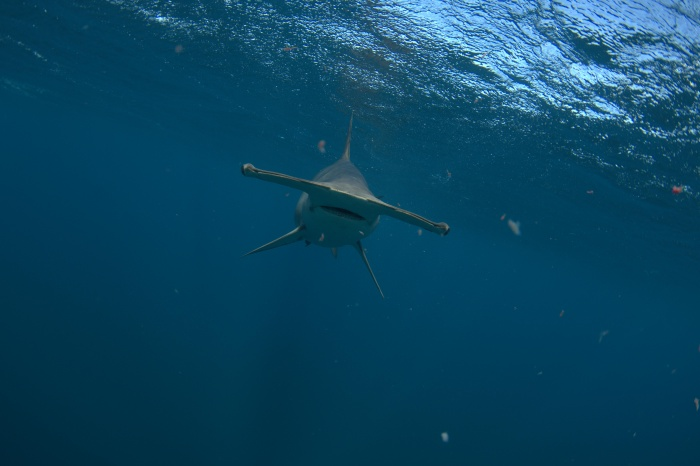Hammer: (199, 89, 487, 330)
